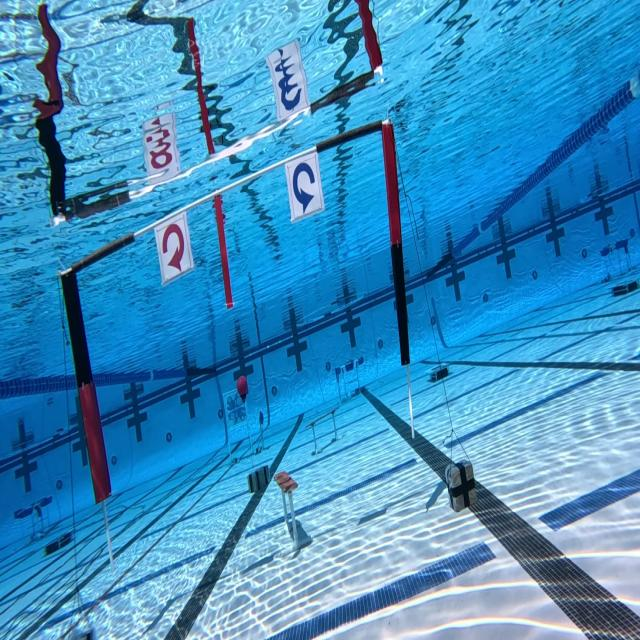blue_side: (281, 153, 332, 222)
red_side: (152, 215, 198, 282)
